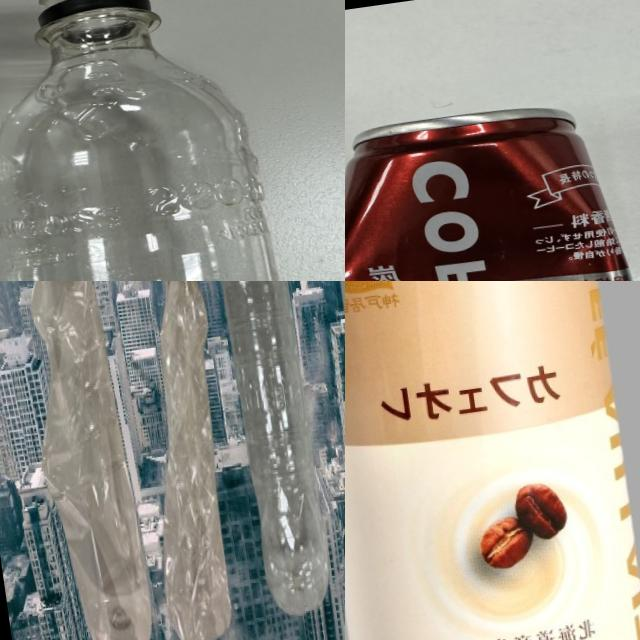Can: (345, 281, 640, 640), (345, 95, 640, 281)
Transparent Plastic Bottle: (0, 0, 310, 281), (7, 281, 155, 640), (108, 281, 251, 640), (192, 281, 337, 618)
